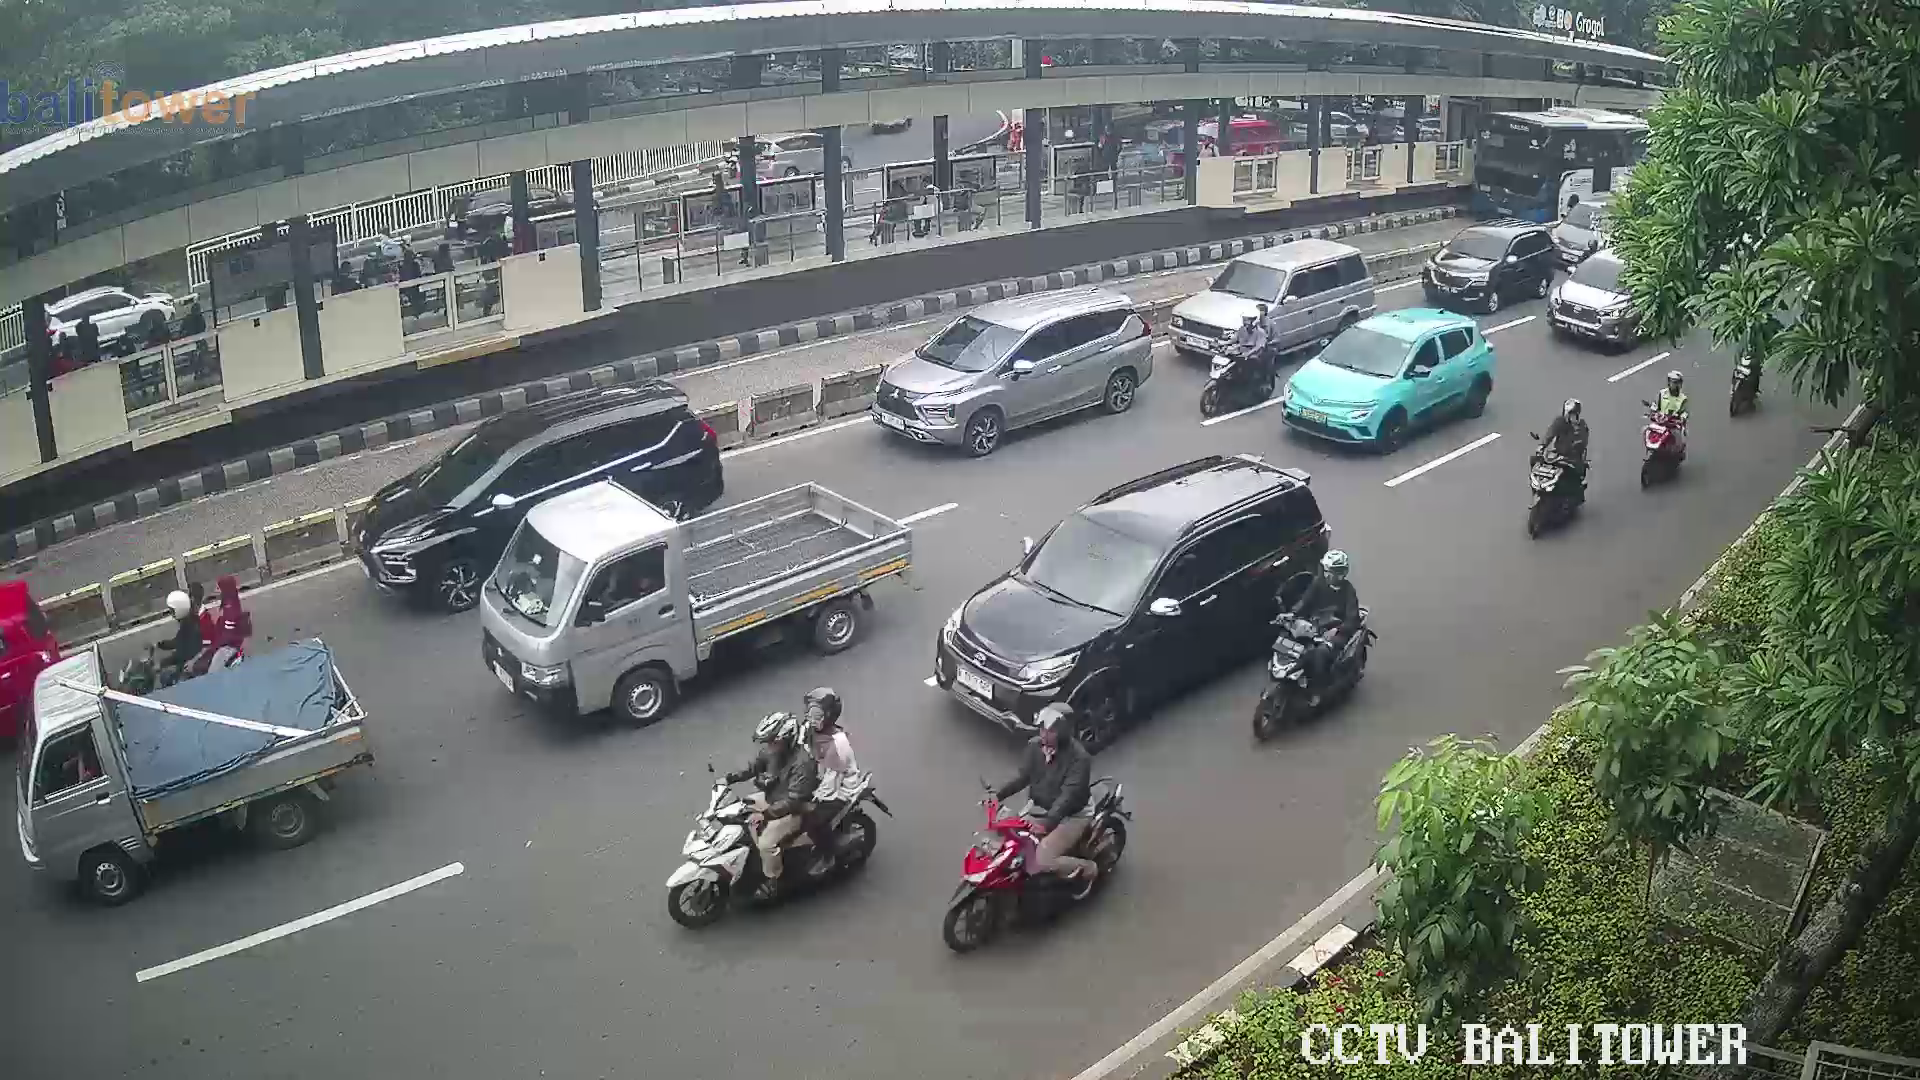full-face helmet: (1555, 394, 1586, 435)
half-face helmet: (1021, 700, 1092, 765), (749, 708, 810, 761), (1315, 539, 1366, 598), (790, 688, 845, 733), (157, 588, 194, 635), (1239, 306, 1259, 337)
no helmet: (186, 578, 214, 673), (214, 571, 241, 624)
